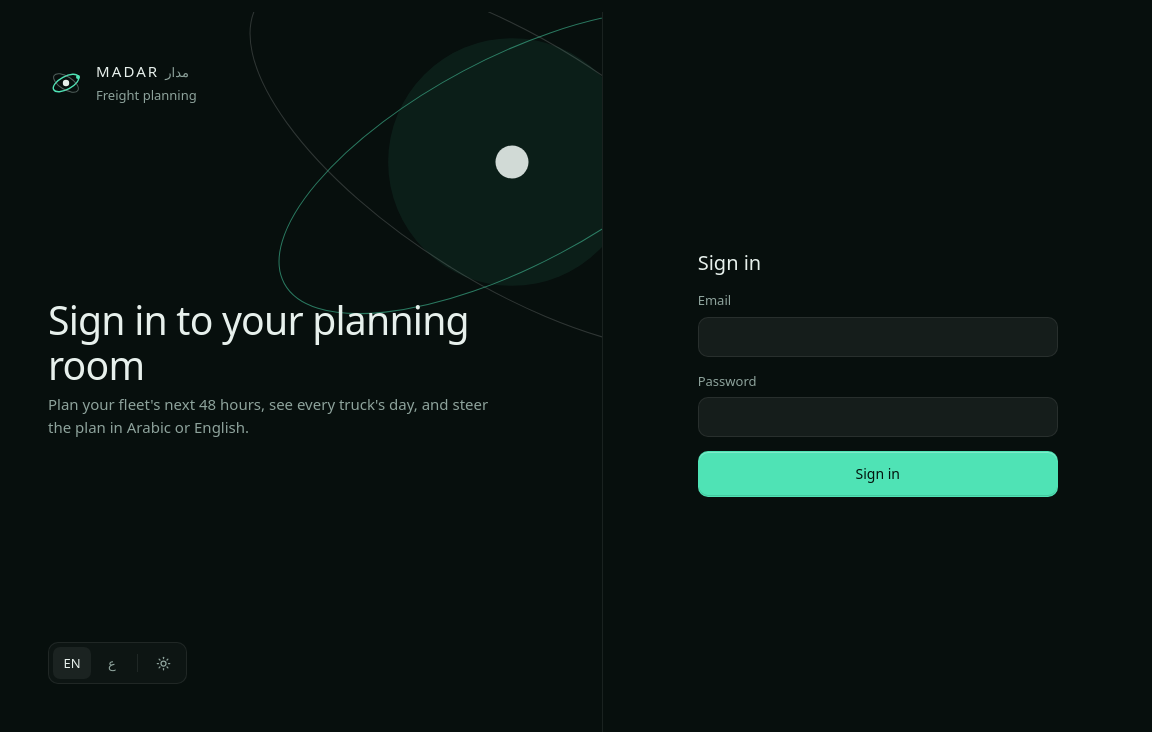
it: sign-in page › says to wait when sign-in is throttled
Type "a@b.test" into the field labelled "Email".
click(878, 336); type("a@b.test")  # box [698,316,1058,356]
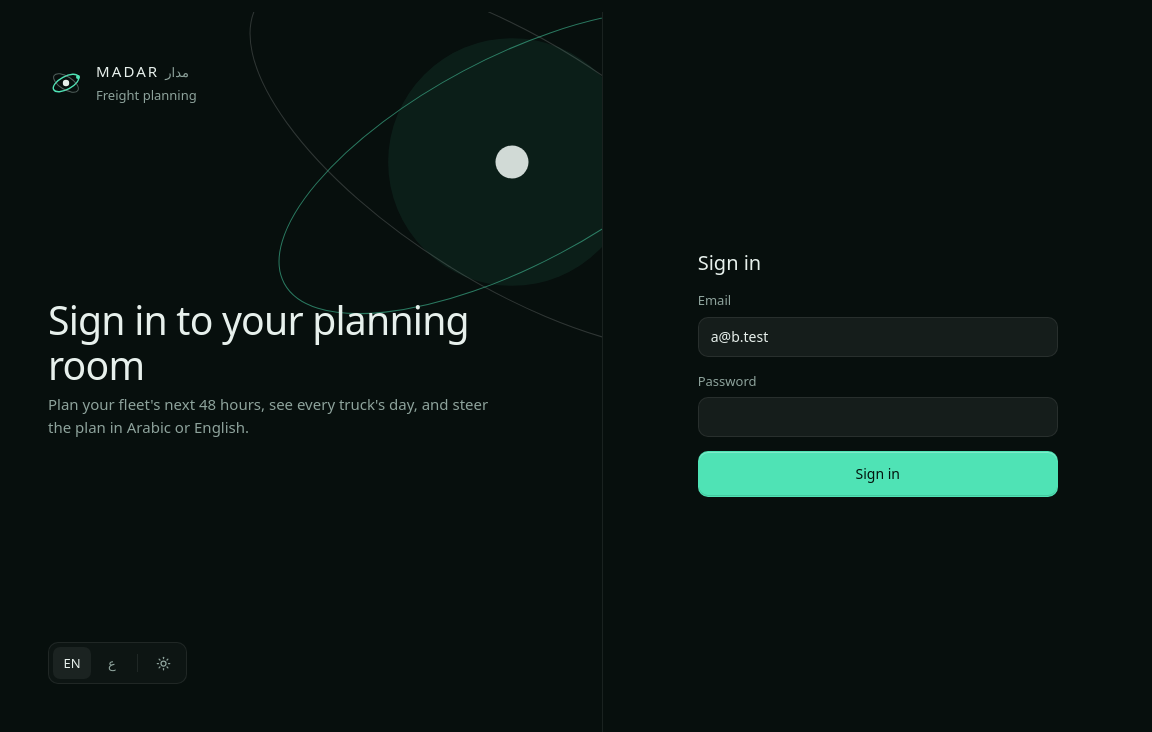
Type "secret-pass" into the password field labelled "Password".
click(878, 417); type("secret-pass")  # box [698,397,1058,437]
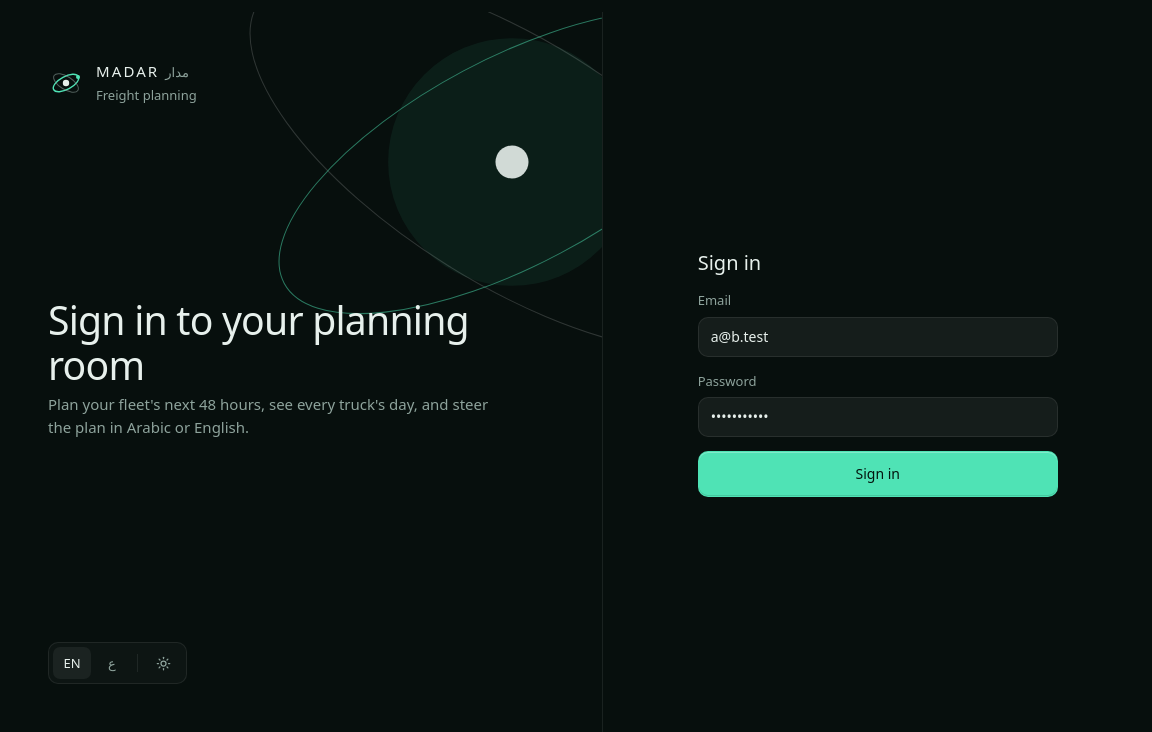
Click the button "Sign in".
click(878, 474)  # box [698,451,1058,497]
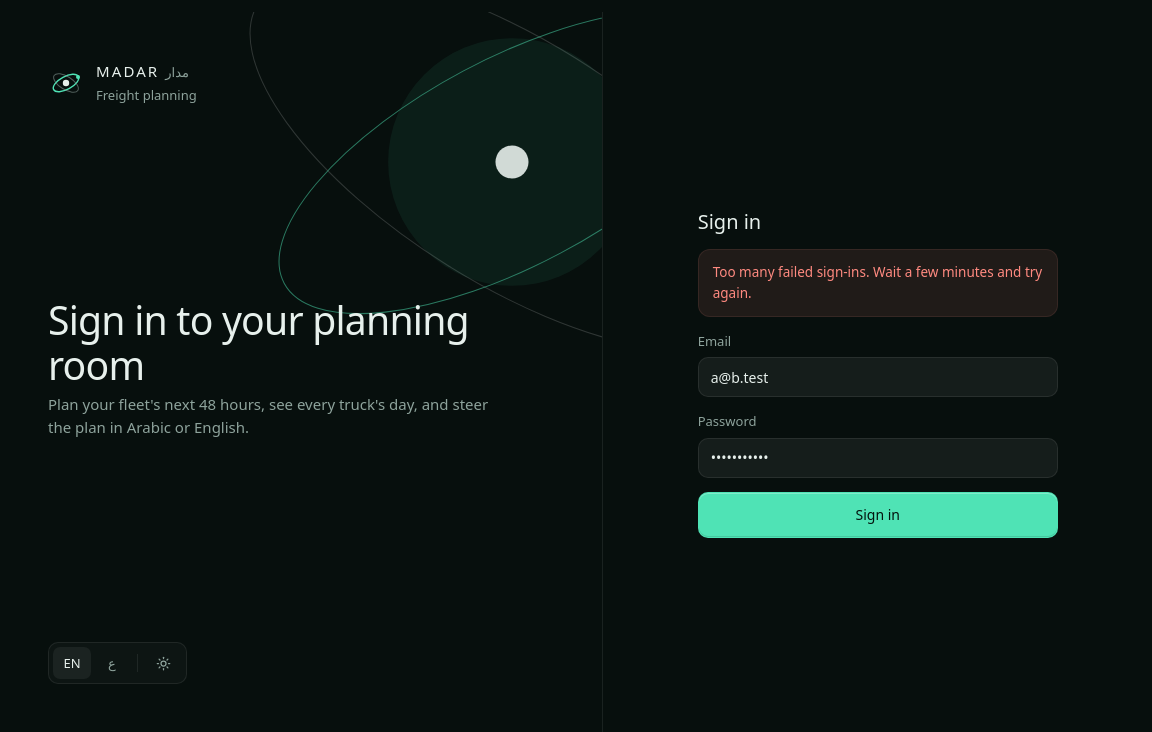
Expected: the text "Too many failed sign-ins. Wait a few minutes and try again." is shown, [698,249,1058,317]
